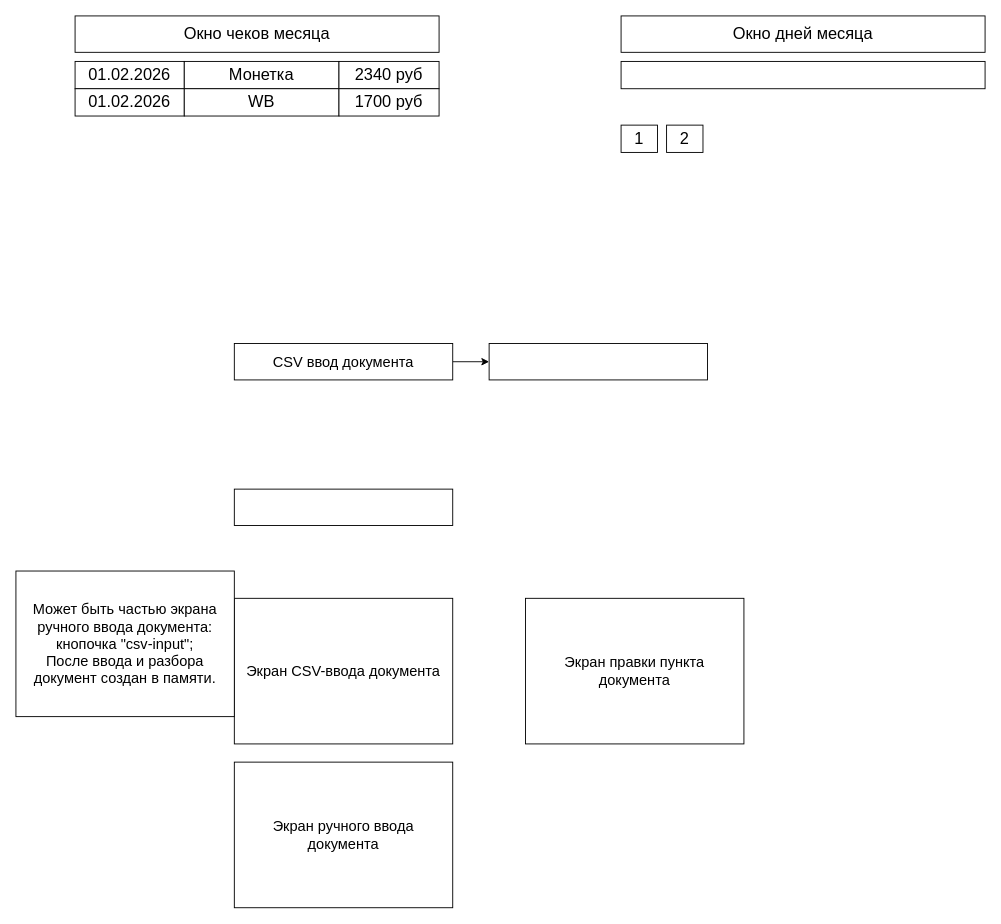
The diagram is 1001 pixels wide and 924 high, and some of its shapes have lost their labels. The centre of each missing label's shape, as x and y in pixels:
"2026 / ФЕВРАЛЬ" goes at (x=802, y=75).
"правка отдельного элемента документа" goes at (x=598, y=361).
"Спецификация экранов" goes at (x=343, y=507).
